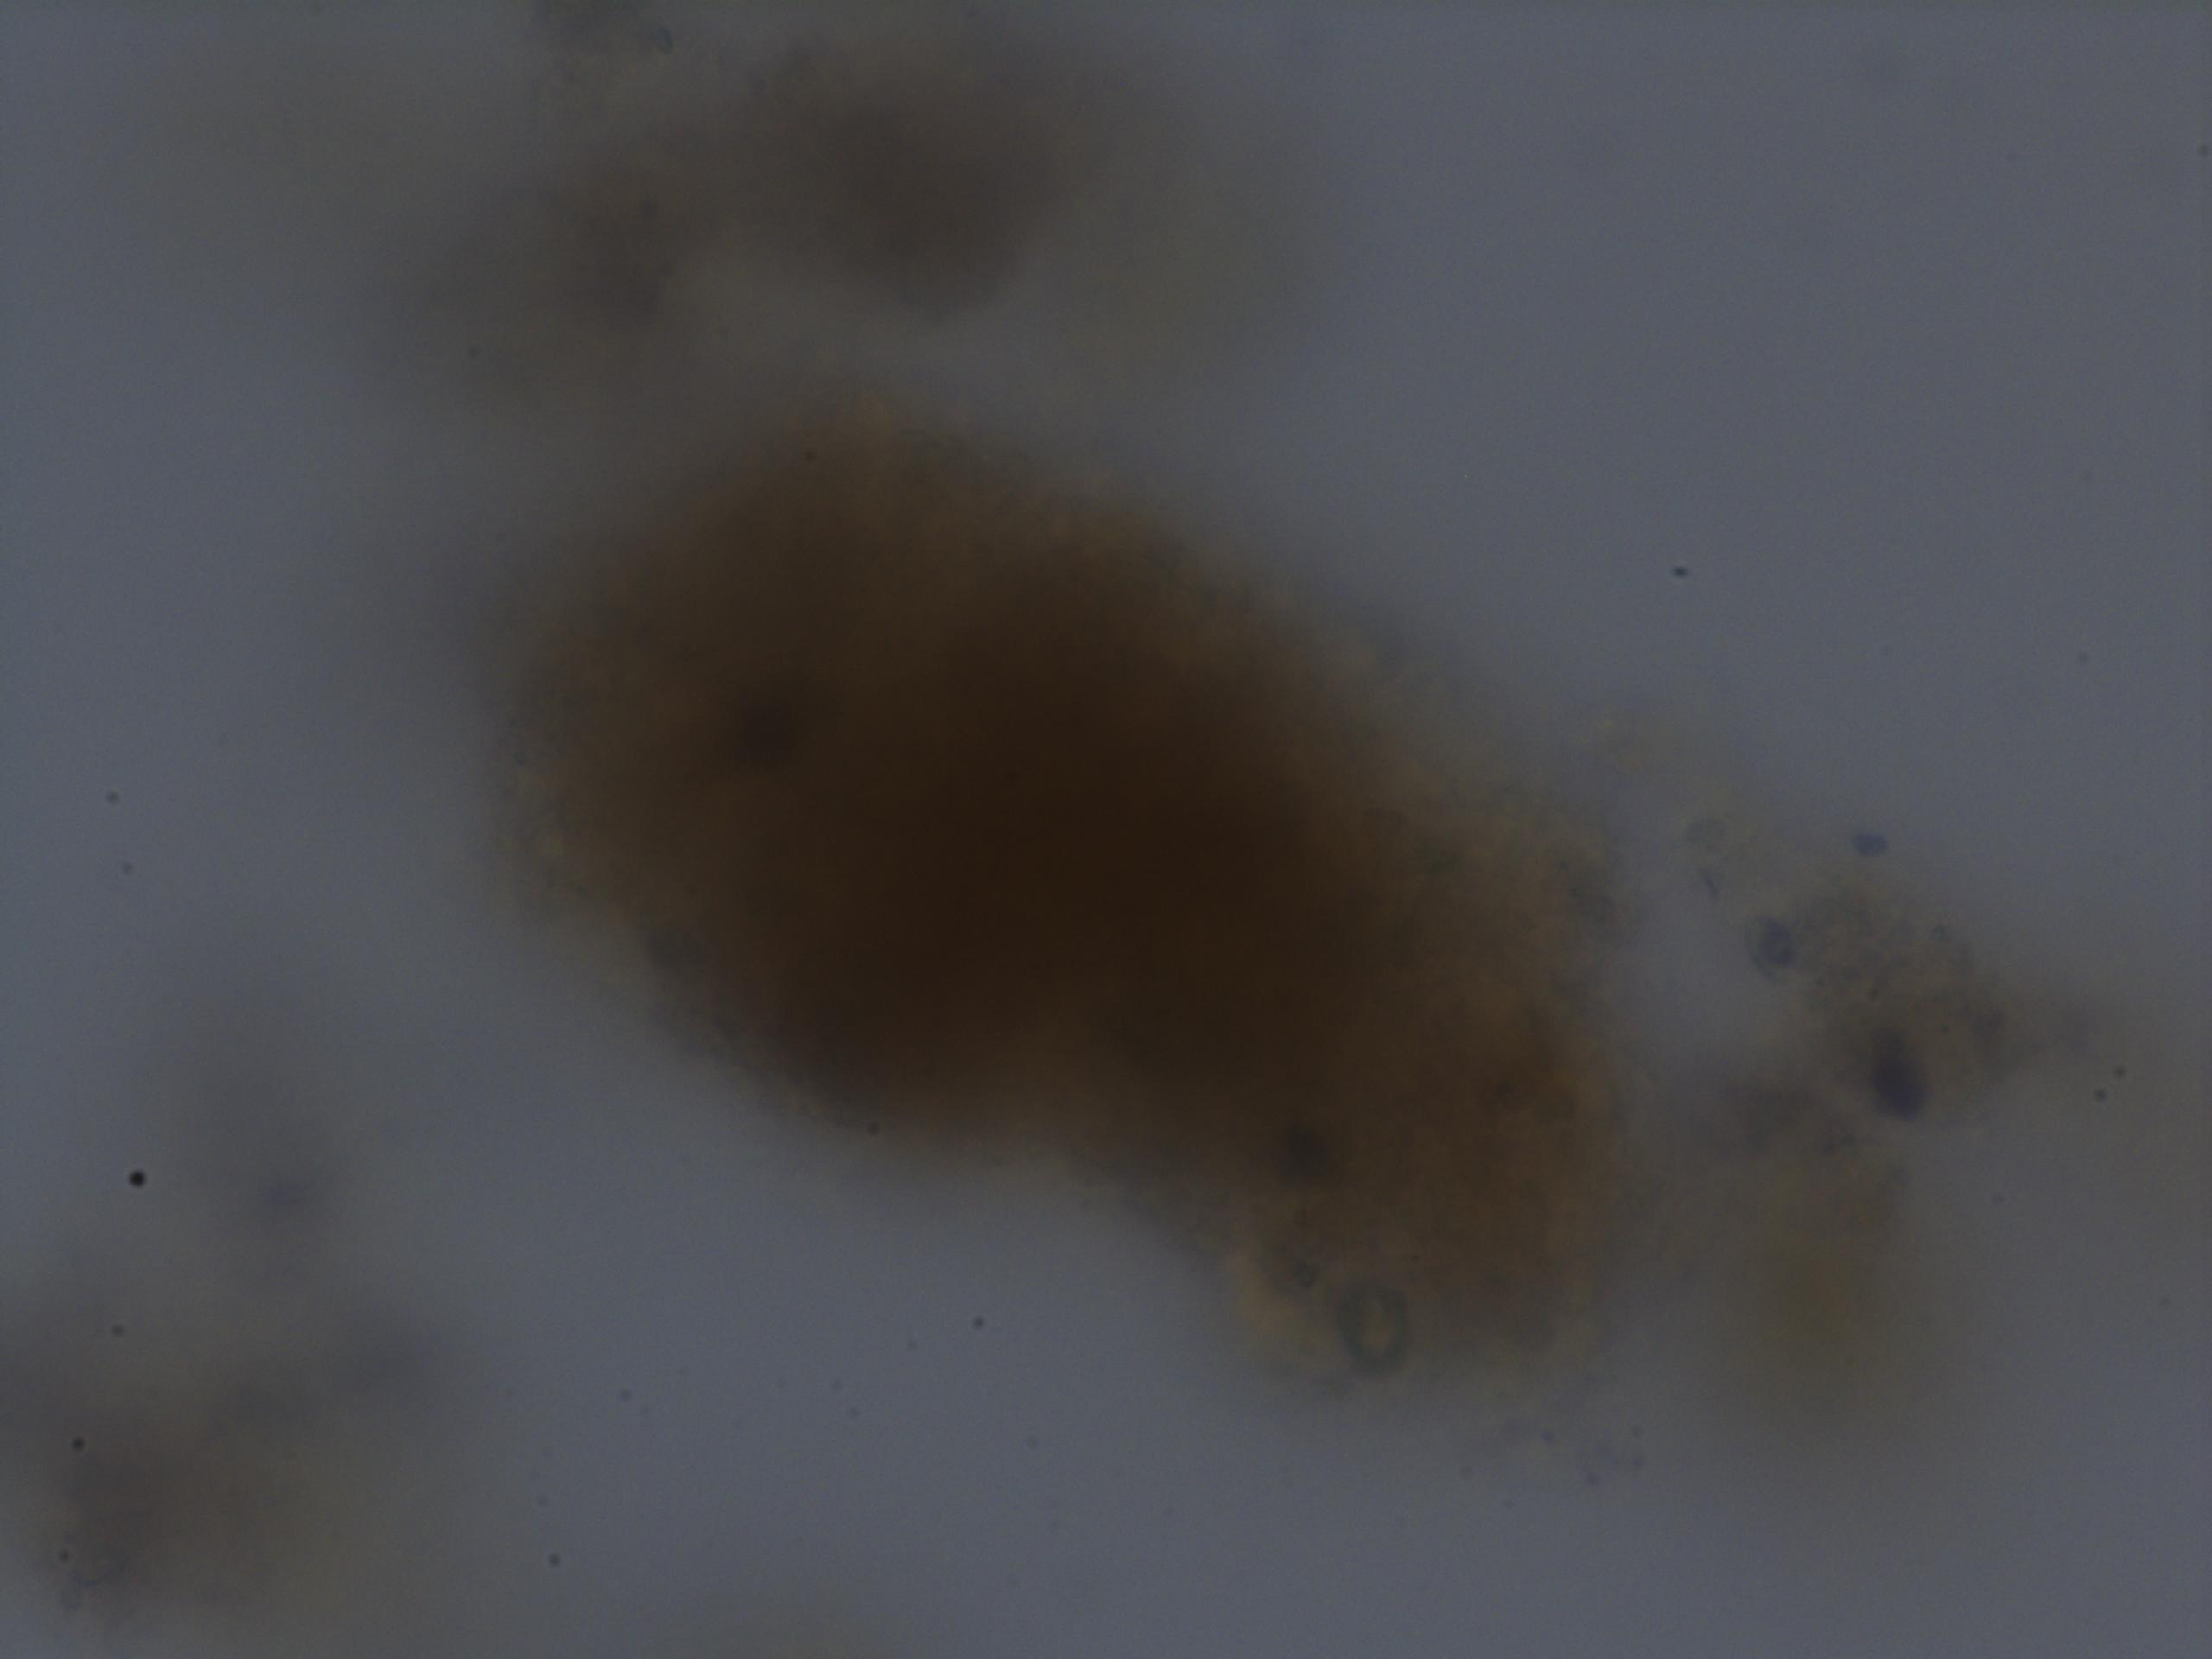spherical_floc: (495, 420, 1656, 1432)
